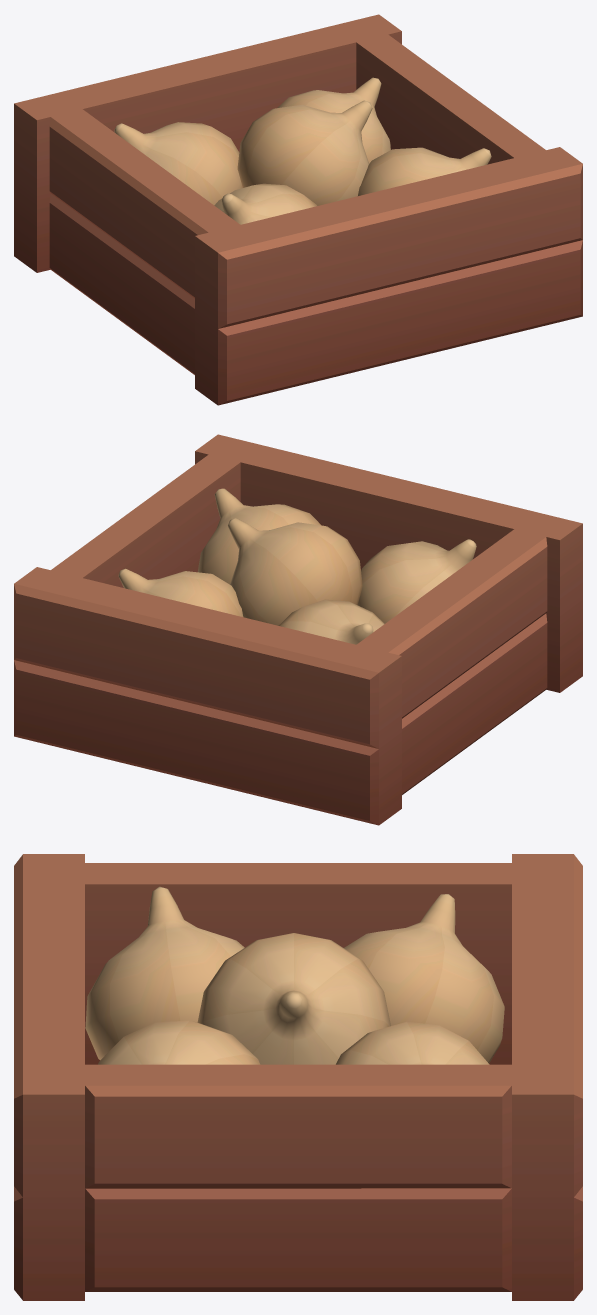
The model's file is onion_couter.glb.
3 views of the same model, one above another, from view 1: azimuth 30°, elevation 25°; view 2: azimuth 150°, elevation 25°; view 3: azimuth 270°, elevation 25° (orthographic). The views are drawn at different scales.
Parts seen in each view (by area): view 1: crate_onions; view 2: crate_onions; view 3: crate_onions.
Boxes of the visible parts, x1,y1,x2,y2 form: crate_onions: [14, 14, 582, 405]; crate_onions: [14, 434, 582, 825]; crate_onions: [14, 854, 582, 1300].
Size of the model in its own units: 2 by 0.9234 by 2.
1 material, 1 textured.
